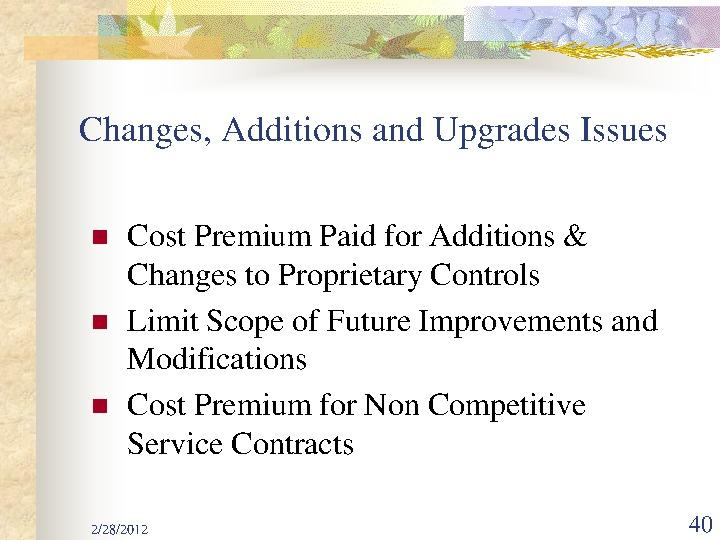paragraph: (80, 196, 689, 473)
title: (78, 93, 682, 162)
